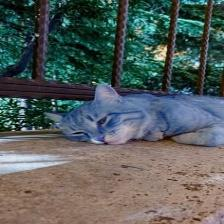kedo: (43, 83, 224, 145)
